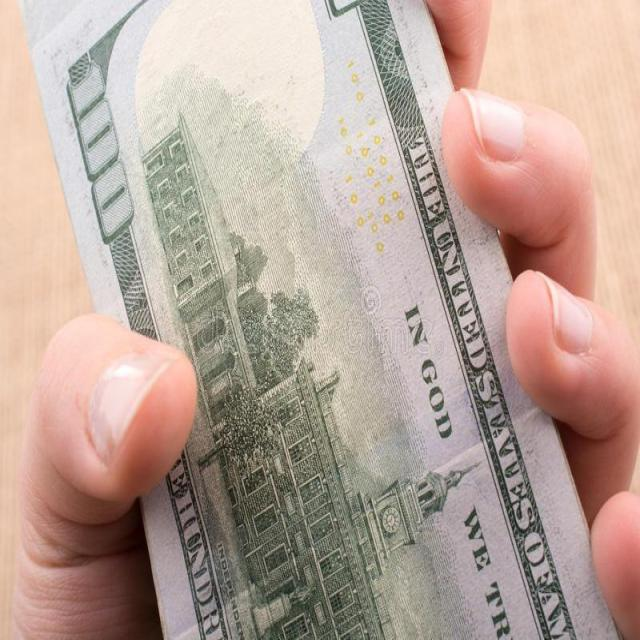100-Back: (43, 1, 640, 640)
